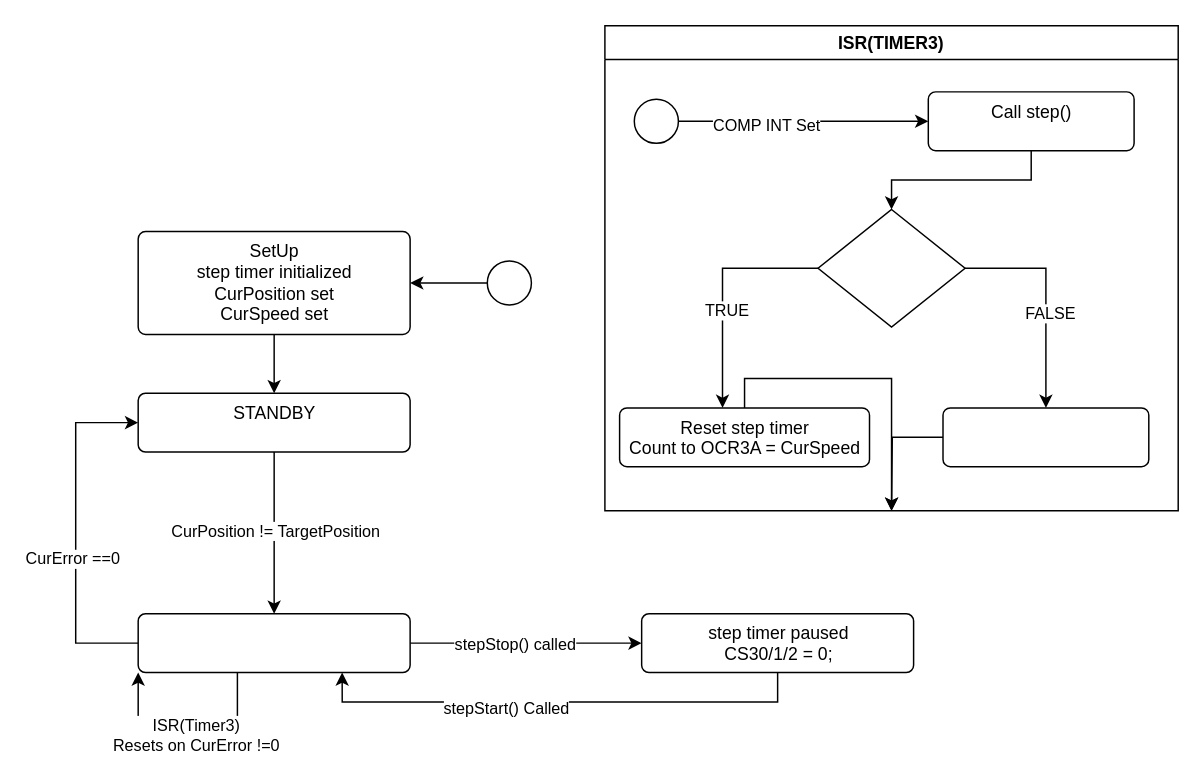
The diagram is 1204 pixels wide and 779 high, and some of its shapes have lost their labels. The shapes that lost their labels are listed below. From the top down, each one's centre as x and y in pixels, then its label:
the point at 891,267: If step()==
the point at 1045,436: Set STEPFLAG
the point at 273,642: TIMER3 Running to OCR3A = CurSpeed
